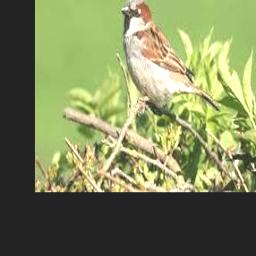Sparrow: (121, 0, 222, 114)
